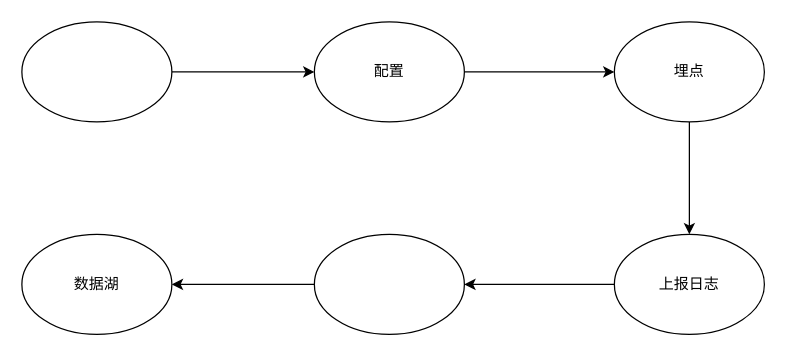
Some shapes in this 786 by 356 pixel diagram are drawn without their labels. Each missing label, with the centre of its shape:
"产品" belongs at [96,71].
"数据分析" belongs at [388,283].
